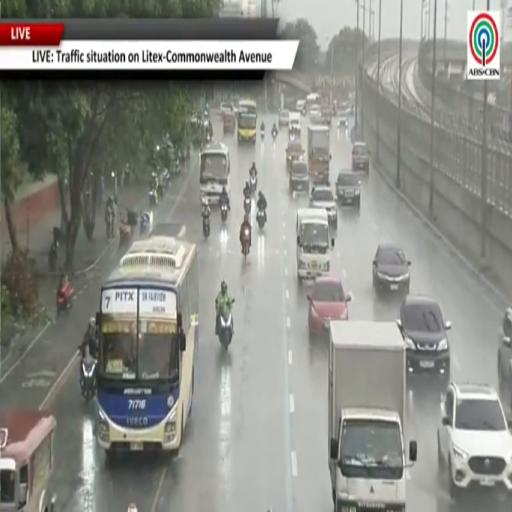bus: (96, 234, 198, 459), (200, 142, 230, 203), (237, 100, 257, 143)
car: (438, 382, 511, 502), (397, 295, 450, 379), (307, 276, 351, 337), (373, 244, 410, 293), (498, 308, 511, 409), (310, 185, 337, 228), (336, 171, 360, 210), (289, 158, 308, 193), (286, 139, 303, 171), (352, 141, 369, 171), (288, 112, 300, 136), (321, 105, 332, 125), (279, 109, 289, 126), (221, 103, 234, 116), (310, 111, 322, 124), (337, 114, 348, 128), (295, 100, 305, 115), (309, 104, 320, 115)
jeepney: (0, 410, 56, 511), (222, 111, 236, 134)
motorcycle: (80, 357, 96, 403), (57, 283, 74, 316), (218, 309, 232, 348), (48, 240, 58, 271), (120, 222, 131, 249), (106, 208, 114, 239), (242, 228, 250, 259), (140, 214, 151, 236), (256, 208, 266, 229), (249, 174, 257, 195), (203, 215, 210, 238), (149, 189, 158, 206), (244, 197, 251, 215), (221, 204, 227, 222), (272, 130, 278, 139), (206, 134, 211, 143), (261, 130, 264, 139)
truck: (328, 320, 417, 511), (308, 125, 331, 182)
